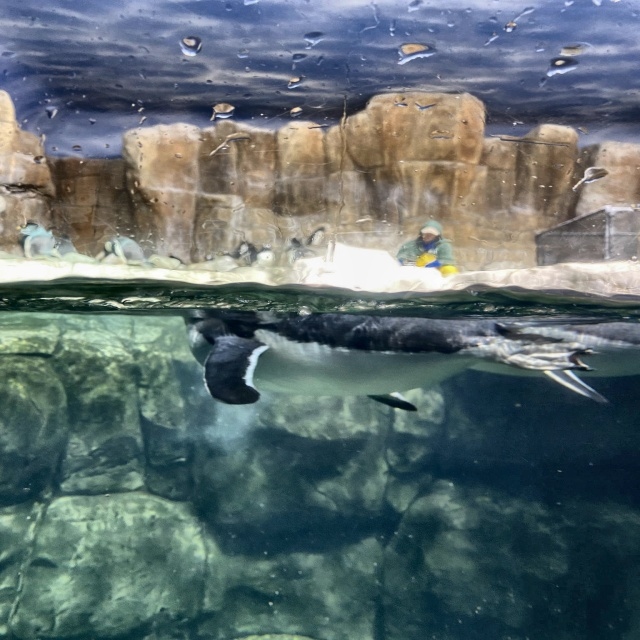penguin: (182, 288, 598, 412), (419, 316, 639, 379), (89, 231, 150, 270), (15, 218, 61, 265), (281, 237, 318, 273), (221, 238, 259, 270), (303, 223, 330, 250)
